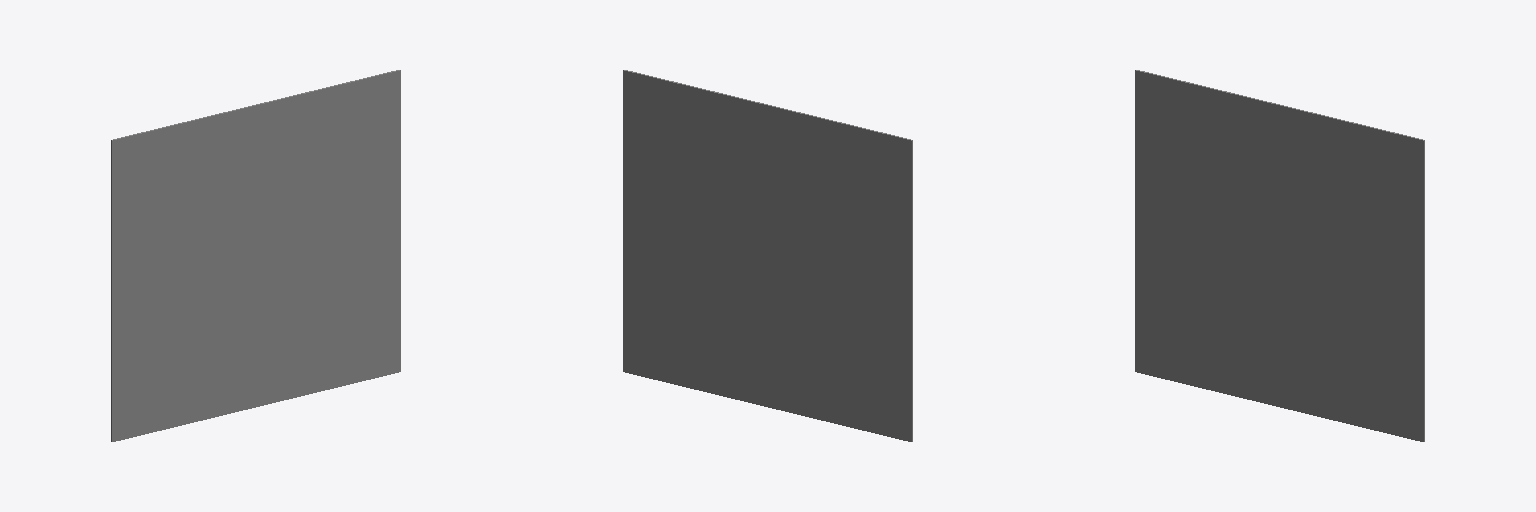
Rendered from Wall2.obj.
3 renders of one model, left to right at view 1: azimuth 30°, elevation 25°; view 2: azimuth 150°, elevation 25°; view 3: azimuth 330°, elevation 25°, orthographic.
Parts seen in each view (by area): view 1: Plane001_Plane001_Material__28; view 2: Plane001_Plane001_Material__28; view 3: Plane001_Plane001_Material__28.
Boxes of the visible parts, x1,y1,x2,y2 form: Plane001_Plane001_Material__28: [111, 70, 400, 441]; Plane001_Plane001_Material__28: [623, 70, 912, 441]; Plane001_Plane001_Material__28: [1135, 70, 1424, 441].
Bounding box in the file's own units: 10 × 10 × 0.0635.